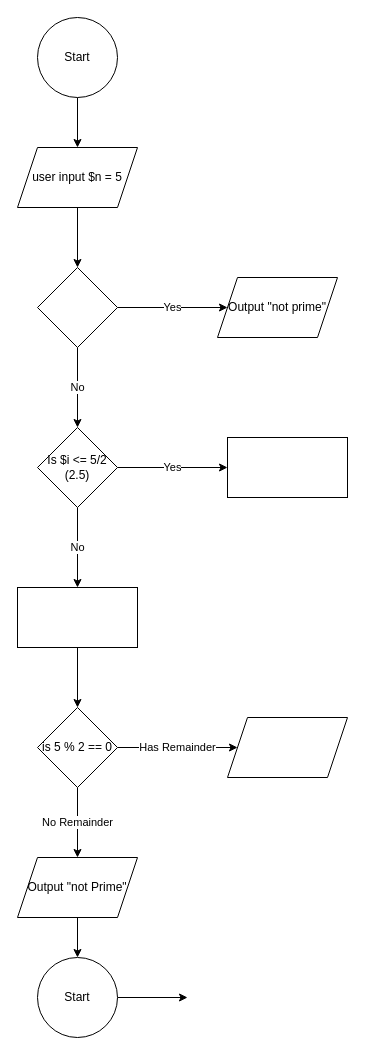
Some shapes in this 365 by 1055 pixel diagram are drawn without their labels. Each missing label, with the centre of its shape:
Check if 5 % 2 == 0: (77,617)
Compare 5 == 1: (77,307)
Increment $i ($i = 3): (287,467)
Output "is Prime": (287,747)
